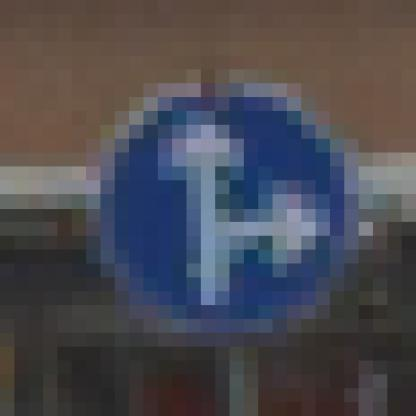Straight or Right: (87, 70, 345, 348)
